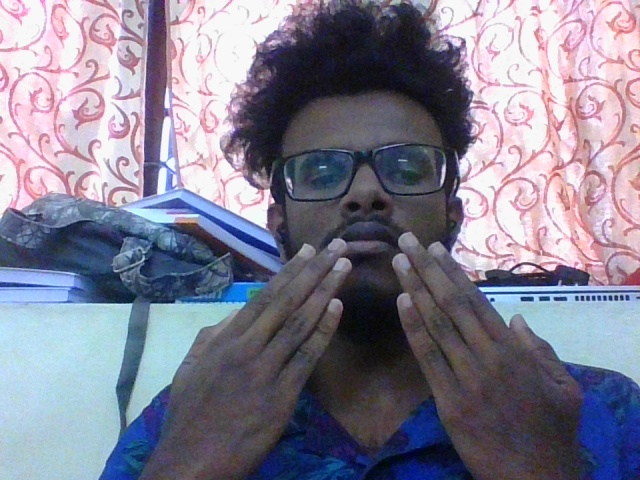thank: (171, 226, 584, 470)
